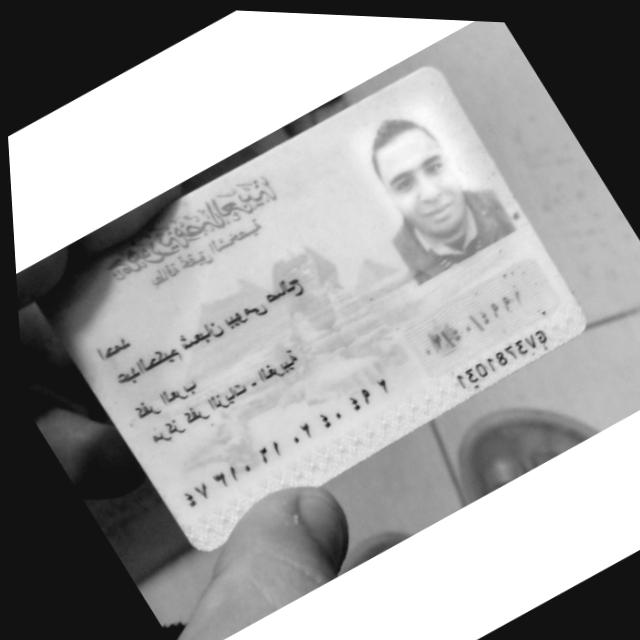id_card: (36, 66, 584, 548)
